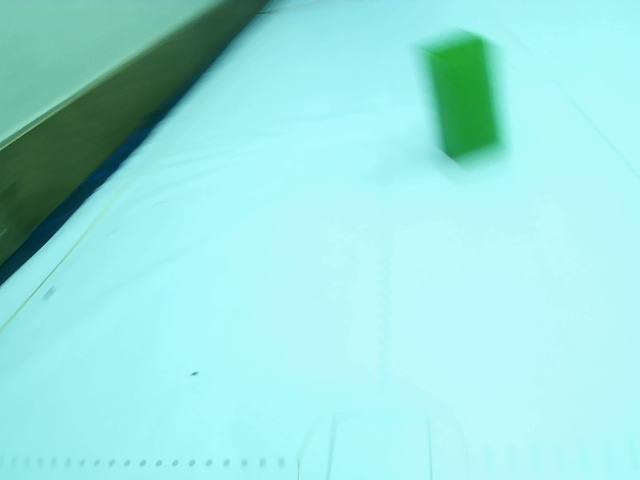green: (427, 39, 500, 153)
